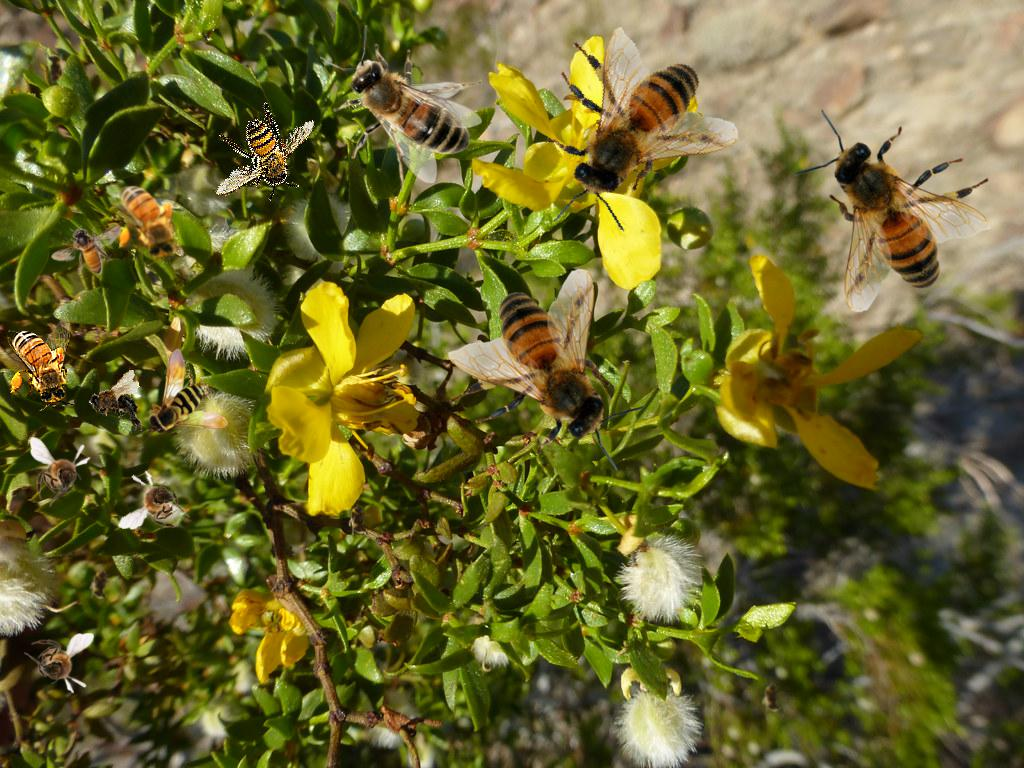Bee: (506, 3, 757, 251), (448, 268, 647, 472), (792, 109, 991, 313), (320, 25, 482, 192), (193, 84, 330, 228), (146, 348, 228, 436), (7, 318, 75, 411), (115, 173, 183, 266), (118, 467, 195, 537), (84, 369, 147, 439), (24, 633, 94, 694), (30, 437, 91, 507), (51, 225, 122, 275), (86, 562, 116, 606), (348, 499, 370, 539), (762, 677, 784, 717), (44, 49, 66, 89)
